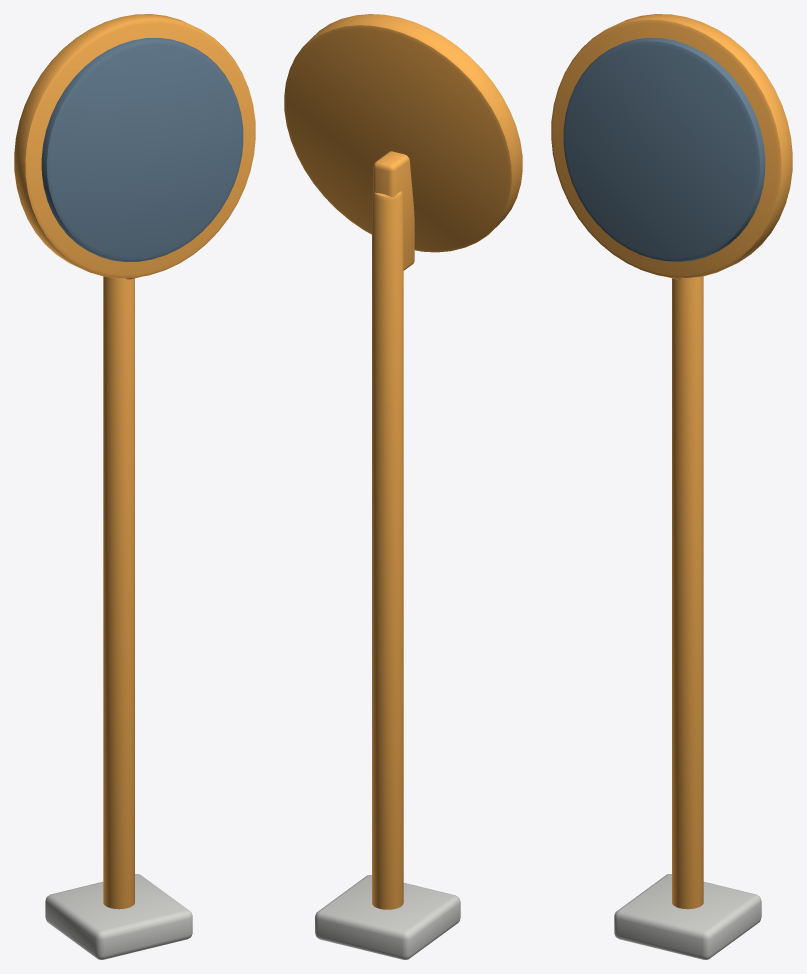
File: curve_mirror.glb
3 renders of one model, left to right at view 1: azimuth 30°, elevation 25°; view 2: azimuth 150°, elevation 25°; view 3: azimuth 330°, elevation 25°, orthographic.
Visible parts, largest first — view 1: curve_mirror; view 2: curve_mirror; view 3: curve_mirror.
Boxes of the visible parts, bbox=[...] form: curve_mirror: bbox=[14, 14, 255, 959]; curve_mirror: bbox=[284, 14, 522, 959]; curve_mirror: bbox=[551, 14, 792, 959].
Bounding box in the file's own units: 0.84 × 3.18 × 0.395.
